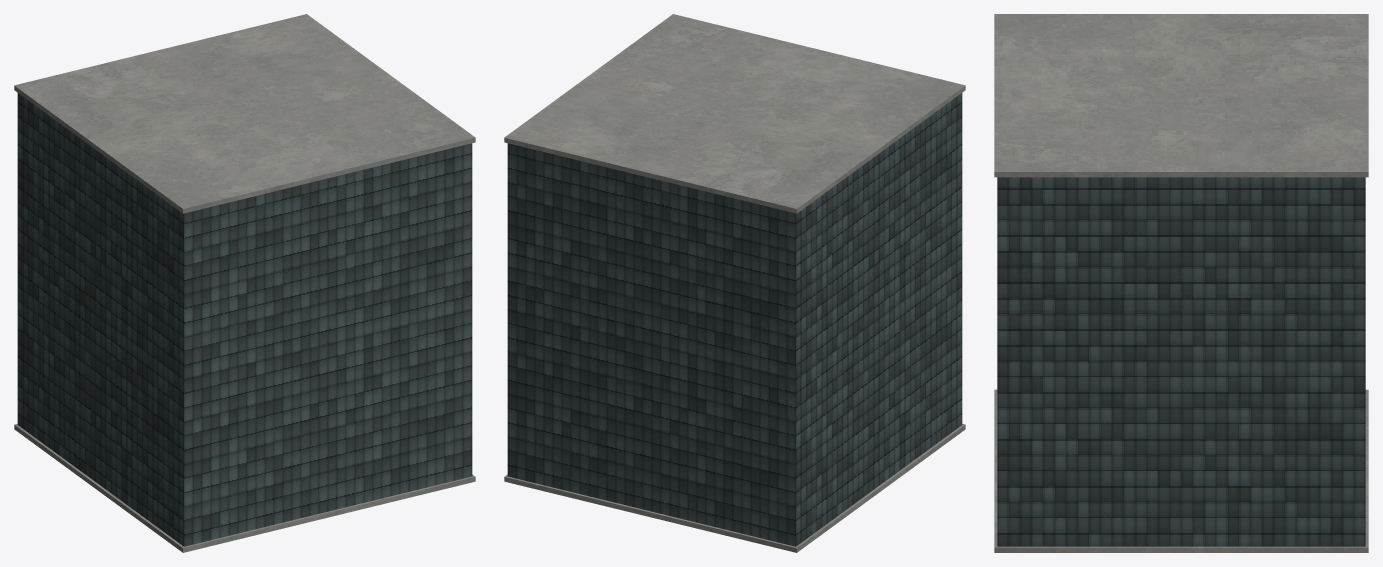
The model's file is building_08.1.glb.
3 renders of one model, left to right at view 1: azimuth 30°, elevation 25°; view 2: azimuth 150°, elevation 25°; view 3: azimuth 270°, elevation 25°, orthographic. The views are drawn at different scales.
Visible parts, largest first — view 1: building_08_12; view 2: building_08_12; view 3: building_08_12.
Part boxes in pixels (box(x1,y1,x2,y2)): building_08_12: box(14, 14, 475, 552); building_08_12: box(504, 14, 965, 552); building_08_12: box(994, 14, 1368, 552).
Bounding box in the file's own units: 65 × 73 × 65.
1 material, 1 textured.
